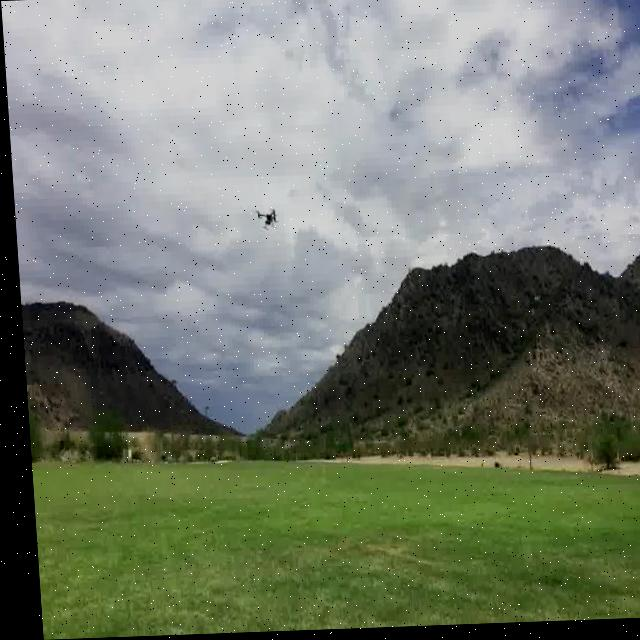drone: (251, 205, 275, 231)
